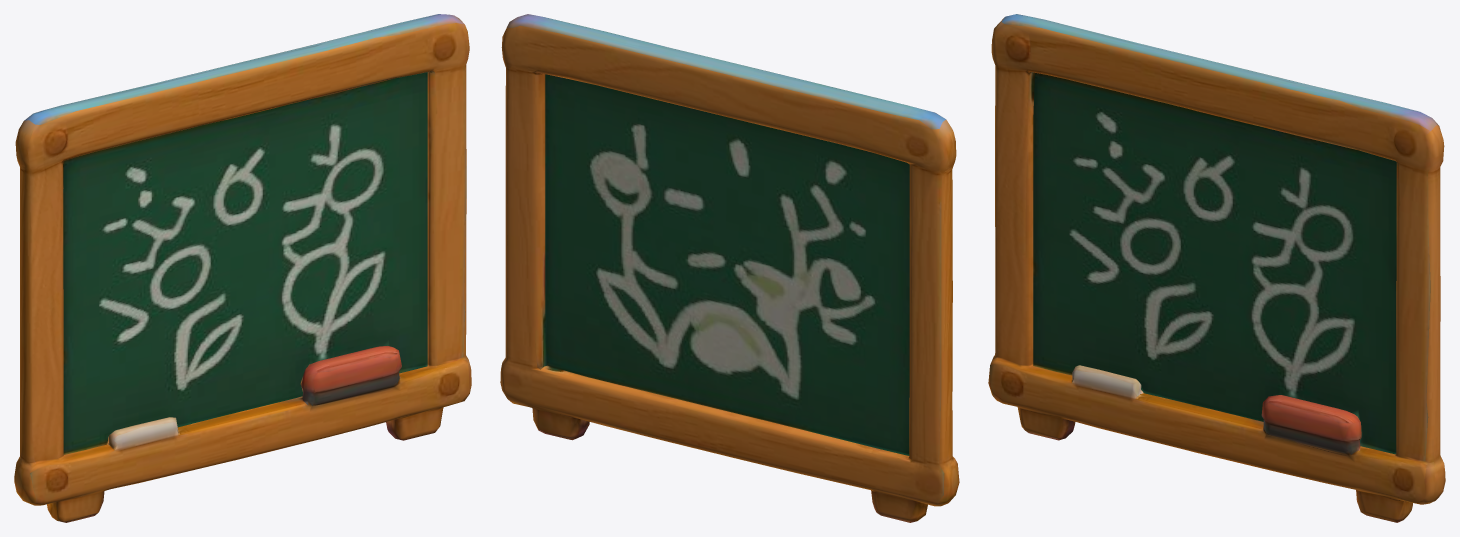
File: chalkboard.glb
3 views of the same model, side by side, from view 1: azimuth 30°, elevation 25°; view 2: azimuth 150°, elevation 25°; view 3: azimuth 330°, elevation 25° (orthographic).
Parts seen in each view (by area): view 1: textured_mesh.obj; view 2: textured_mesh.obj; view 3: textured_mesh.obj.
Boxes of the visible parts, box(x1,y1,x2,y2) form: textured_mesh.obj: box(14, 14, 471, 522); textured_mesh.obj: box(500, 14, 959, 522); textured_mesh.obj: box(988, 14, 1445, 522).
Size of what is drawn, in the model's own units: 1.03 by 0.9 by 0.08.
1 material, 1 textured.
